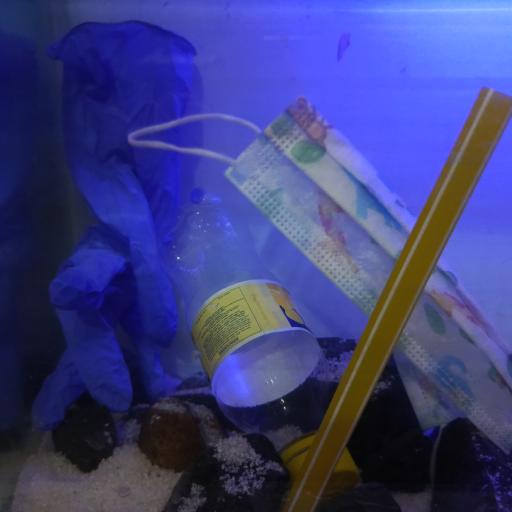bottle_cap: (280, 446, 362, 501)
glove: (30, 18, 194, 437)
mask: (123, 98, 512, 452)
plastic_bottle: (157, 194, 360, 508)
plastic_straw: (283, 84, 508, 512)
